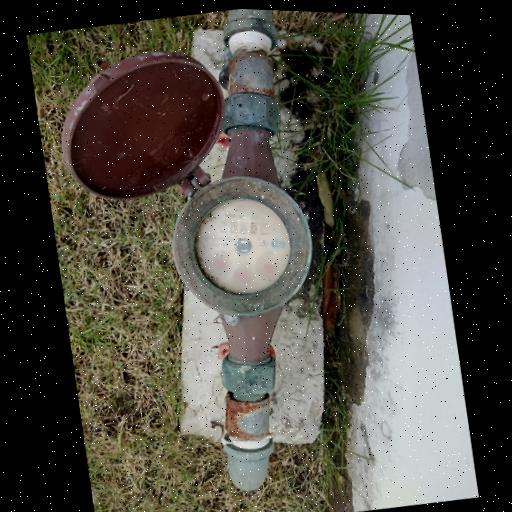1: (229, 220, 239, 234), (218, 220, 228, 233)
4: (258, 222, 268, 236)
8: (237, 221, 248, 235)
9: (249, 221, 259, 235)
border_water_meter_number: (218, 213, 269, 242)
